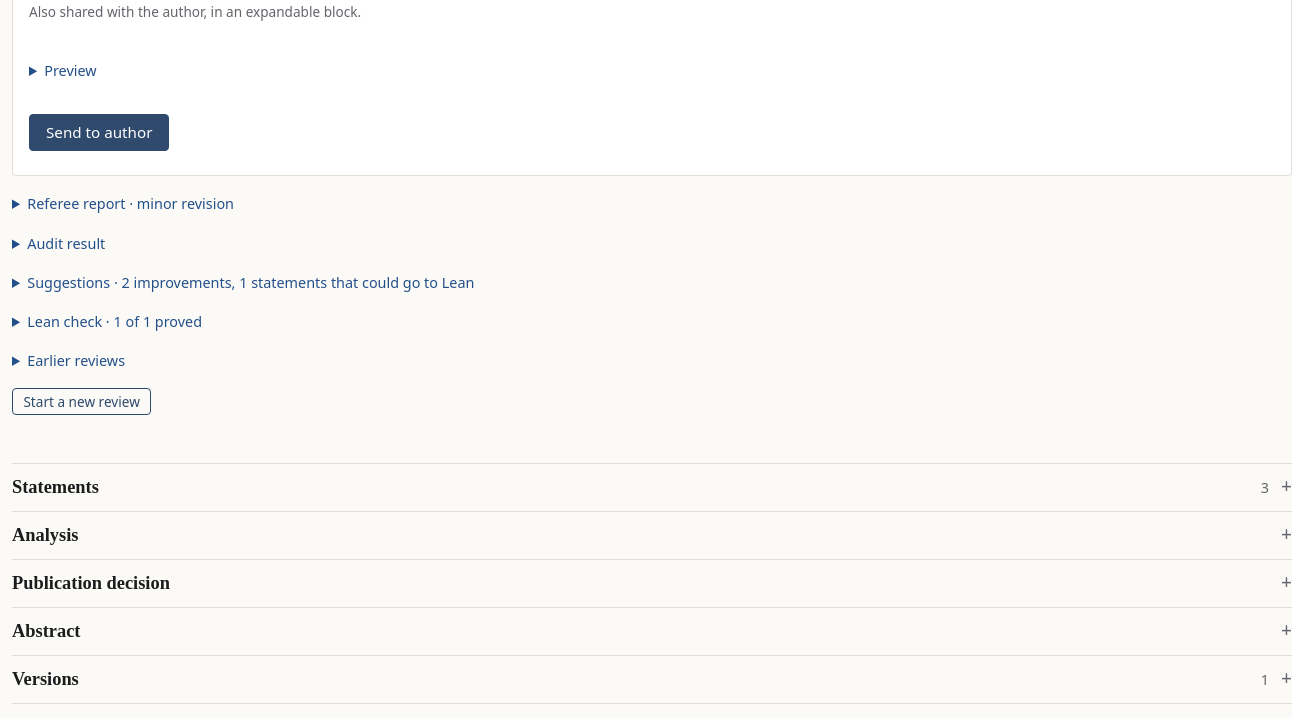
Scenario: referee workspace › shows assessments in the staff’s earlier-letter history
The width and height of the screenshot is (1292, 718).
(page scrolled)
Click the heading "Earlier reviews": (76, 360) [27,351,125,370]
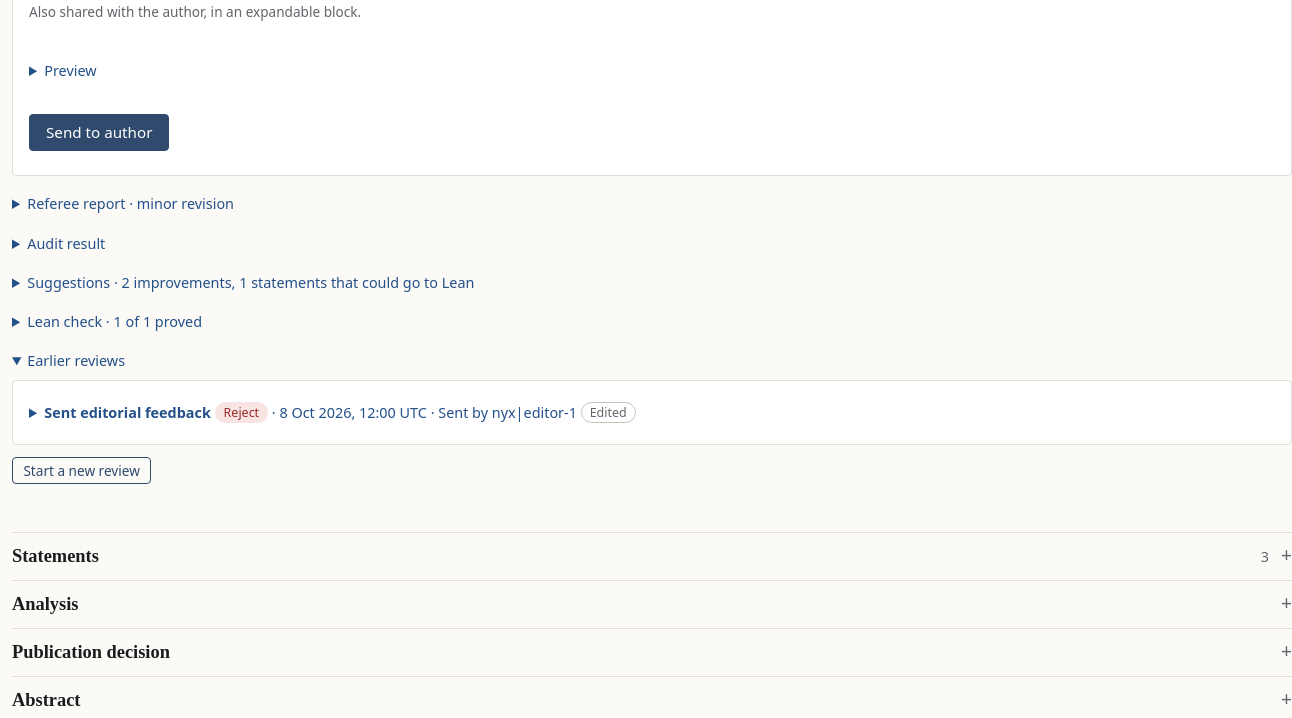
Check: the heading "Reject" shows "Sent editorial feedback", box [44,402,636,423]
